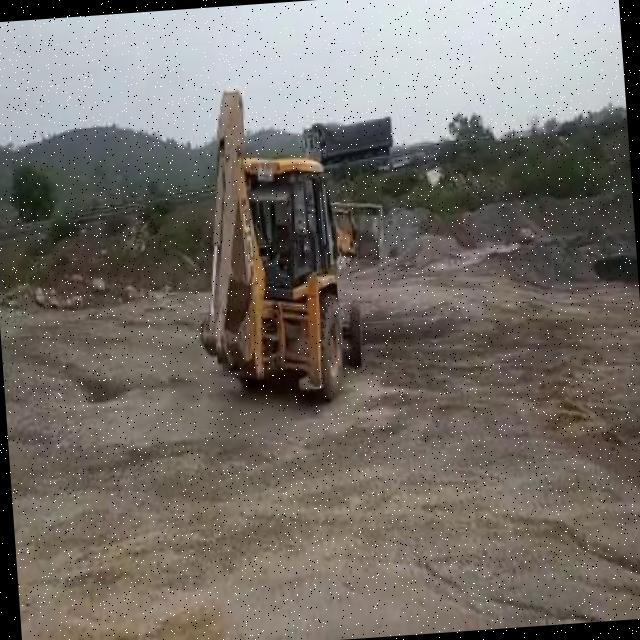Dump Truck: (297, 108, 393, 162)
